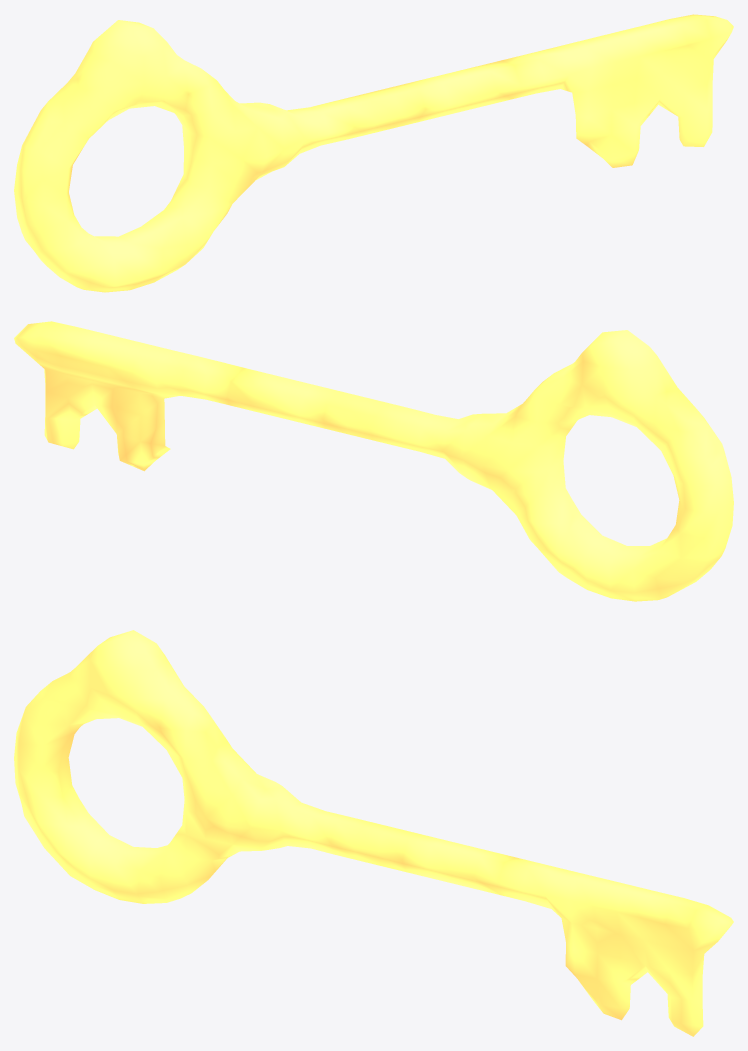
The model's file is esc_key.glb.
3 views of the same model, one above another, from view 1: azimuth 30°, elevation 25°; view 2: azimuth 150°, elevation 25°; view 3: azimuth 330°, elevation 25° (orthographic).
Parts seen in each view (by area): view 1: esc_key; view 2: esc_key; view 3: esc_key.
Boxes of the visible parts, x1=… form: esc_key: x1=14, y1=14, x2=733, y2=292; esc_key: x1=14, y1=321, x2=733, y2=601; esc_key: x1=14, y1=630, x2=733, y2=1036.
Bounding box in the file's own units: 0.3417 × 0.1204 × 0.0318.
